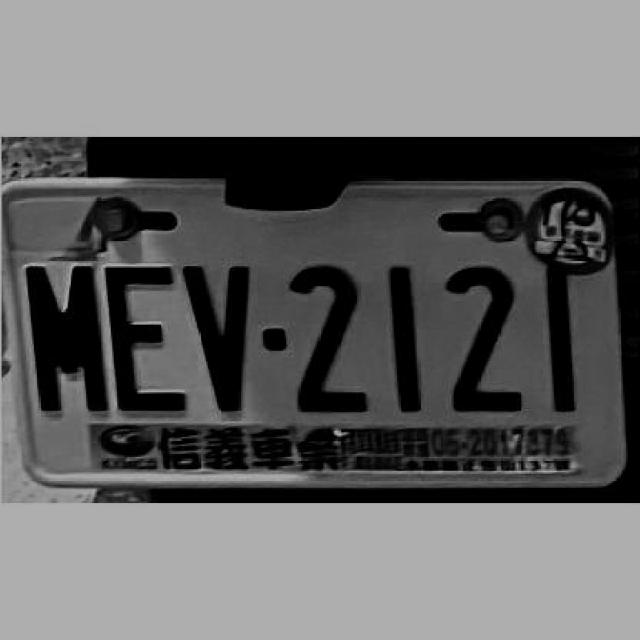-: (262, 322, 284, 349)
1: (545, 263, 577, 413), (388, 264, 418, 410)
2: (445, 260, 523, 415), (288, 260, 366, 414)
E: (100, 256, 187, 412)
M: (18, 256, 111, 414)
V: (184, 263, 256, 411)
